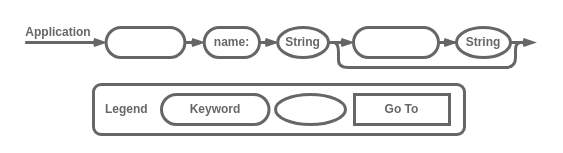
Image size: 563x153. Some labels were removed from this diagram. The shapes that lost their labels are listed below. From the top down, each one's centre as x and y in pixels, then its label:
At (x=145, y=42): "application:".
At (x=396, y=42): "description:".
At (x=310, y=109): "expr".
